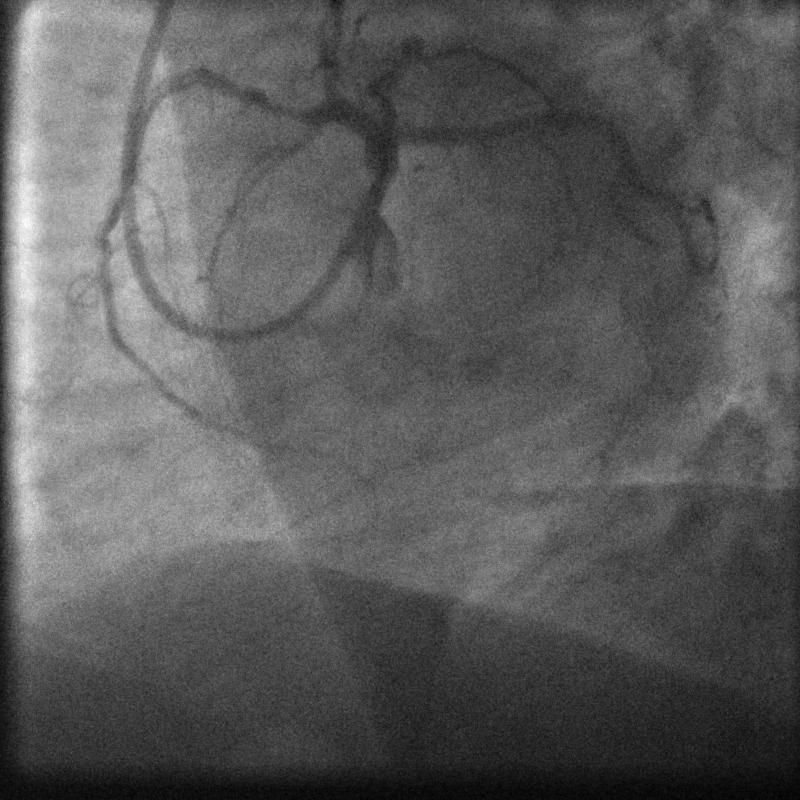Stenosis: (262, 86, 325, 129)
